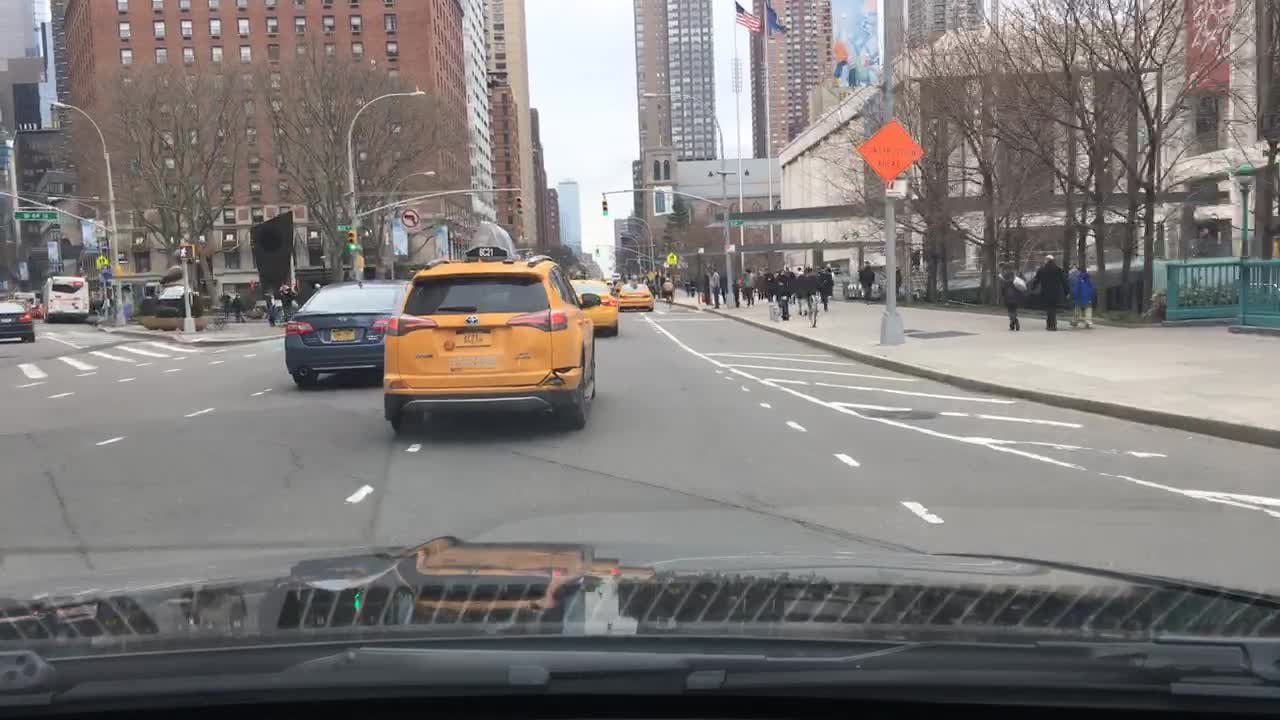car: (378, 255, 596, 432), (282, 280, 426, 388), (568, 278, 616, 336), (0, 298, 28, 340), (158, 287, 193, 319), (616, 281, 652, 311), (28, 296, 52, 318)
person: (1035, 253, 1064, 330), (993, 264, 1026, 330), (1067, 264, 1092, 327), (855, 256, 876, 300), (800, 265, 818, 311), (709, 267, 724, 306), (229, 293, 248, 323), (778, 268, 789, 319), (789, 267, 803, 305), (818, 268, 830, 311), (740, 268, 751, 305), (661, 273, 674, 302), (893, 262, 901, 297), (767, 269, 776, 300), (653, 270, 663, 297), (759, 270, 767, 300), (687, 278, 696, 295)
traffic light: (177, 245, 194, 257), (601, 199, 608, 215), (347, 233, 355, 247), (729, 218, 742, 222)
traffic sign: (852, 119, 923, 183), (14, 209, 59, 220), (401, 208, 418, 228), (95, 257, 109, 268), (336, 222, 355, 230)
truck: (47, 276, 90, 320)
